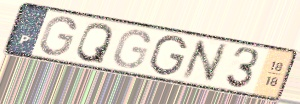3: (224, 47, 261, 91)
G: (37, 15, 79, 58), (148, 34, 189, 77), (111, 29, 152, 70)
N: (180, 38, 230, 84)
Q: (74, 22, 116, 66)
